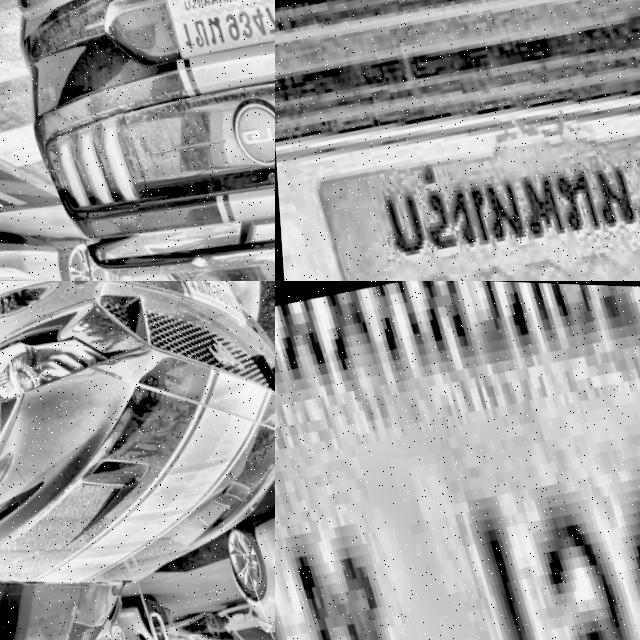license-plate: (275, 281, 640, 640), (275, 0, 640, 281), (157, 0, 275, 63), (170, 281, 248, 329)
